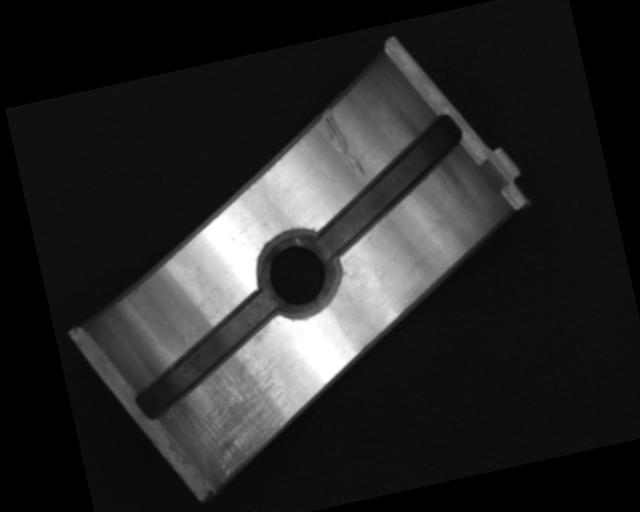gap: (300, 112, 480, 261), (116, 288, 295, 422)
hole: (252, 227, 343, 326)
nick: (317, 102, 368, 183)
scratch: (174, 347, 304, 481)
